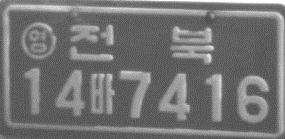1: (199, 72, 230, 123), (19, 66, 50, 114)
4: (157, 72, 190, 120), (54, 69, 85, 117)
6: (235, 74, 269, 124)
7: (118, 69, 151, 119)
바: (88, 72, 115, 115)
영: (20, 21, 57, 60)
전북_D: (67, 22, 213, 65)
